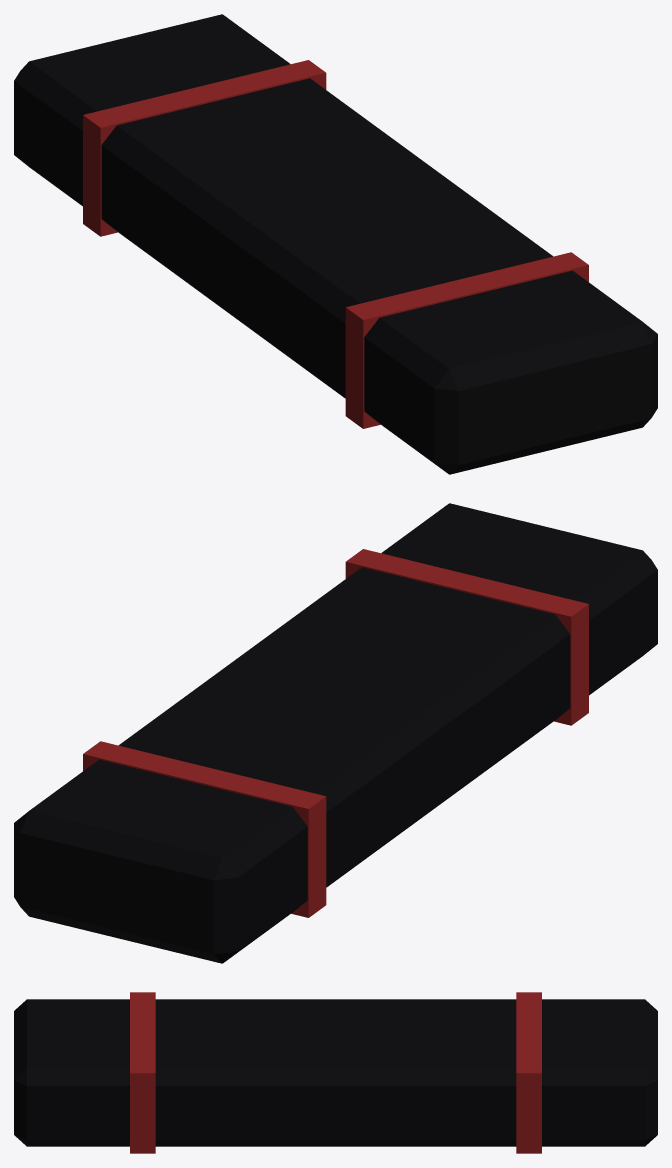
File: zpfe_pylon.obj
3 renders of one model, top to bottom at view 1: azimuth 30°, elevation 25°; view 2: azimuth 150°, elevation 25°; view 3: azimuth 270°, elevation 25°, orthographic. The views are drawn at different scales.
Visible parts, largest first — view 1: zpfe_pylon; view 2: zpfe_pylon; view 3: zpfe_pylon.
Part boxes in pixels (bbox=[...]): zpfe_pylon: bbox=[14, 14, 657, 474]; zpfe_pylon: bbox=[14, 503, 657, 963]; zpfe_pylon: bbox=[14, 992, 657, 1153].
Size of the model in its own units: 0.4465 by 0.206 by 1.5.
